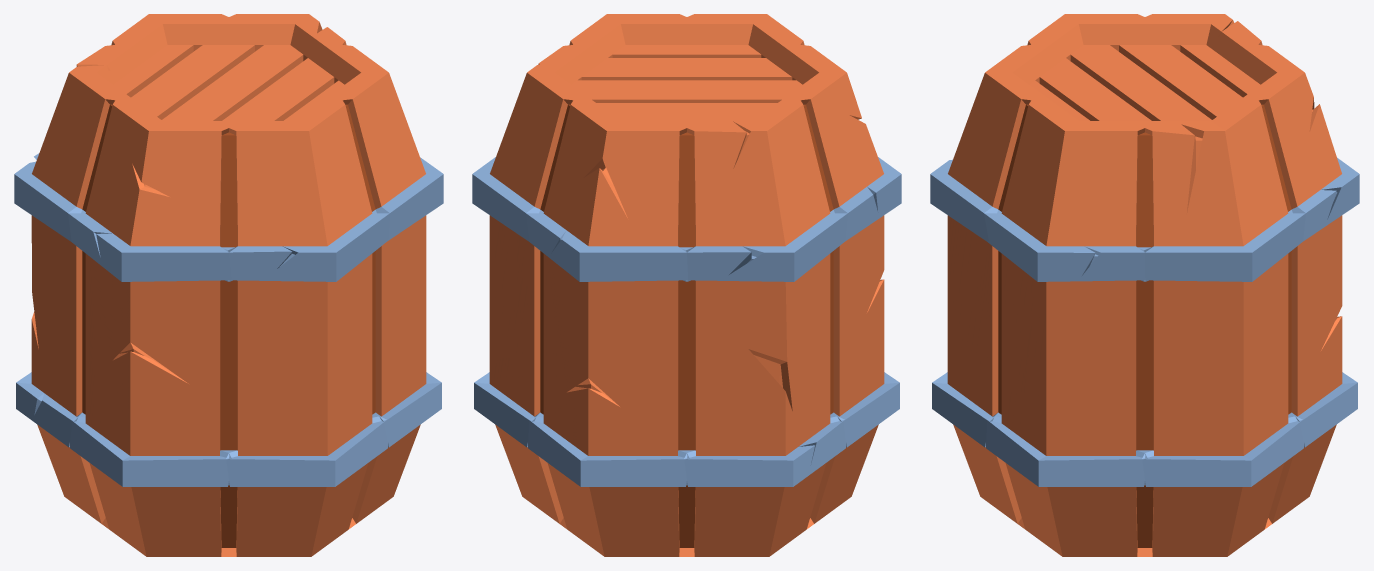
File: Barrel 1.fbx
The picture shows the model from 3 angles, left to right: view 1: azimuth 30°, elevation 25°; view 2: azimuth 150°, elevation 25°; view 3: azimuth 270°, elevation 25°; orthographic projection.
Parts seen in each view (by area): view 1: Barrel 1; view 2: Barrel 1; view 3: Barrel 1.
Boxes of the visible parts, bbox=[...] form: Barrel 1: bbox=[14, 14, 443, 556]; Barrel 1: bbox=[472, 14, 901, 556]; Barrel 1: bbox=[930, 14, 1359, 556].
Bounding box in the file's own units: 189 × 237 × 218.
